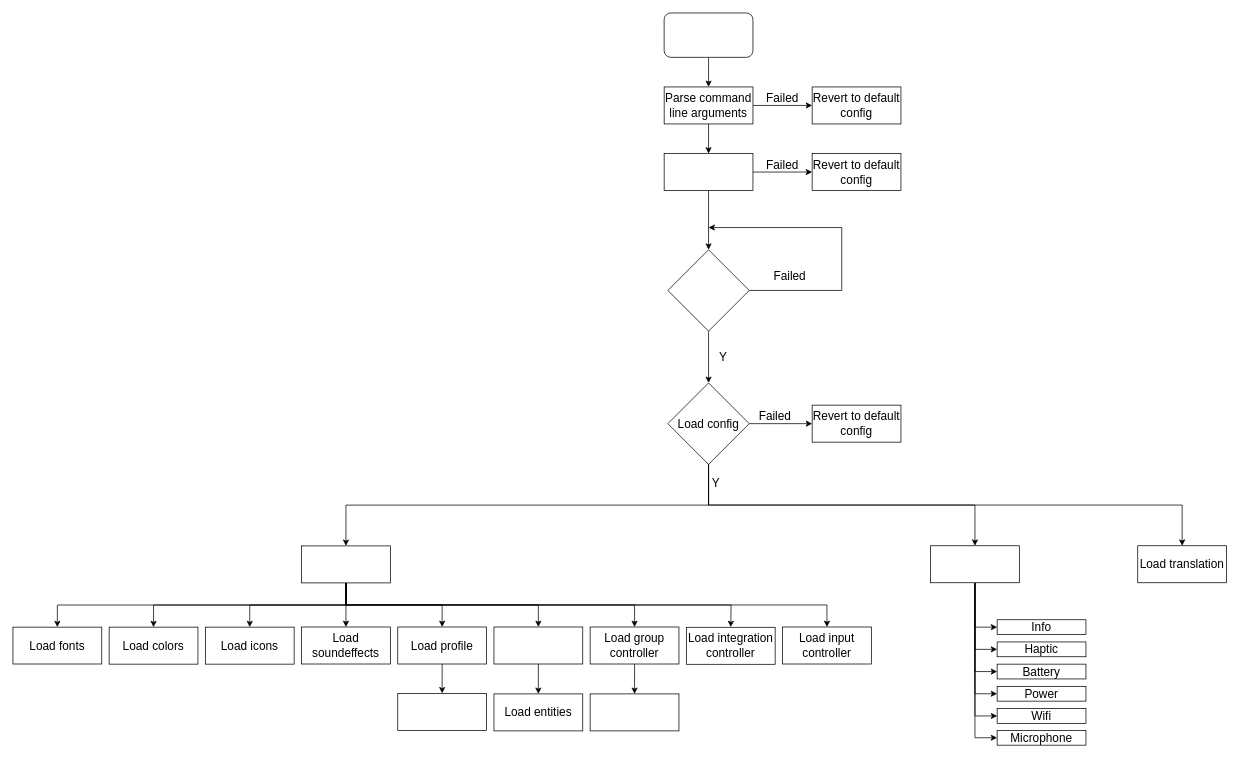
Image size: 1240x759. Some labels were removed from this diagram. Here are the shapes that lost their labels. From the top down, the box of each, then its label:
(663, 12, 753, 57): Start
(663, 153, 753, 191): Parse ENV variables
(667, 249, 749, 331): Connect to core
(301, 545, 390, 583): Load UI controller
(930, 545, 1019, 583): Load hardware controller
(493, 626, 583, 664): Load entity controller
(397, 693, 487, 730): Load pages
(589, 693, 679, 731): Load groups
